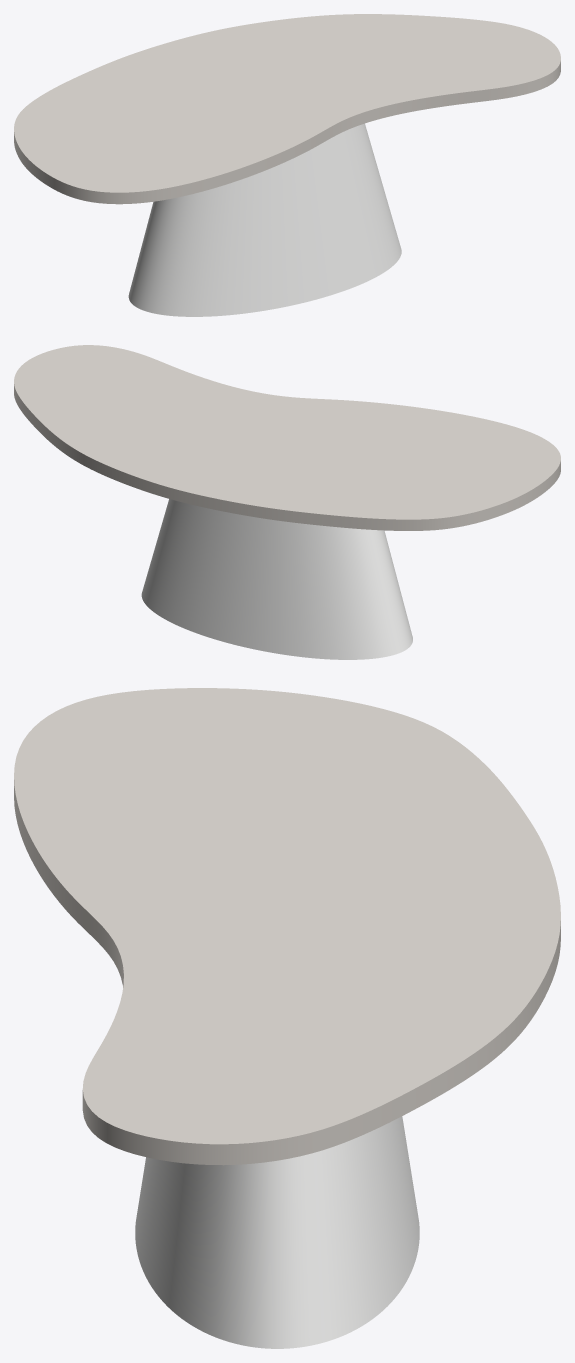
Rendered from pearlwhite_leaf1_standard_eqone.glb.
The picture shows the model from 3 angles, top to bottom: view 1: azimuth 30°, elevation 25°; view 2: azimuth 150°, elevation 25°; view 3: azimuth 270°, elevation 25°; orthographic projection. The views are drawn at different scales.
Parts seen in each view (by area): view 1: standard_leaf1, eqone; view 2: standard_leaf1, eqone; view 3: standard_leaf1, eqone.
Part boxes in pixels (bbox=[...]): standard_leaf1: bbox=[14, 14, 560, 204]; eqone: bbox=[128, 123, 401, 316]; standard_leaf1: bbox=[14, 345, 560, 530]; eqone: bbox=[141, 499, 412, 659]; standard_leaf1: bbox=[14, 688, 560, 1165]; eqone: bbox=[135, 1116, 419, 1348].
Bounding box in the file's own units: 7.5 × 2.51 × 3.8.
Materials: 2 (2 with a texture image).
